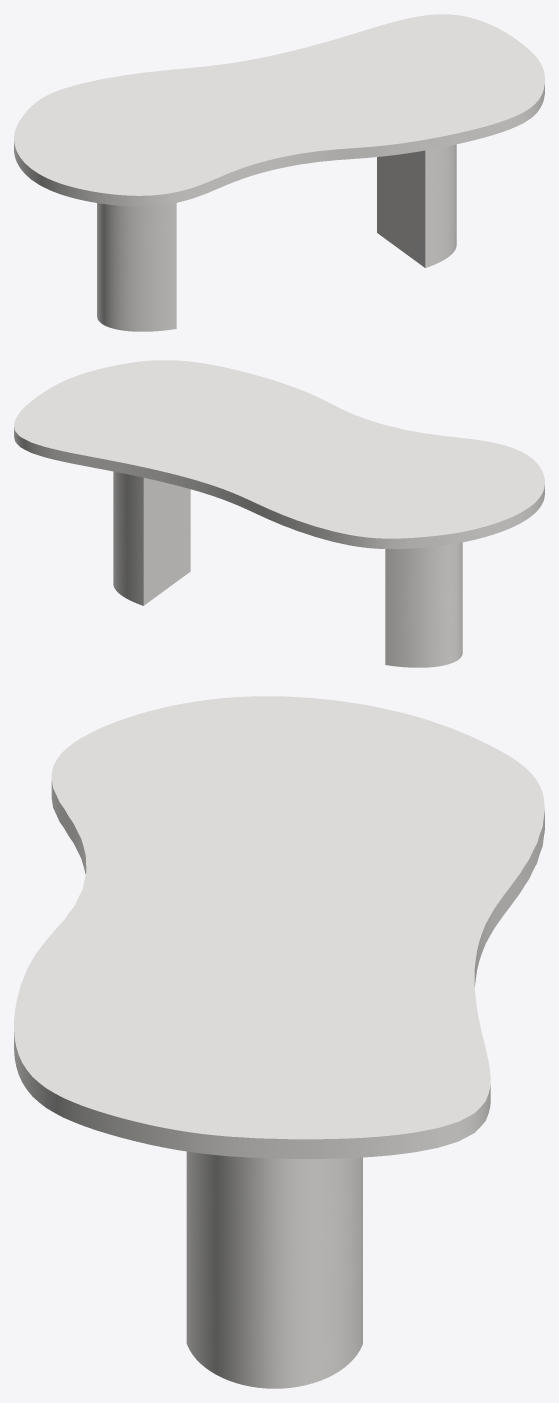
Rendered from purewhite_wave_standard_hillside.glb.
The picture shows the model from 3 angles, top to bottom: view 1: azimuth 30°, elevation 25°; view 2: azimuth 150°, elevation 25°; view 3: azimuth 270°, elevation 25°; orthographic projection. The views are drawn at different scales.
Visible parts, largest first — view 1: standard_wave, hillside; view 2: standard_wave, hillside; view 3: standard_wave, hillside.
Boxes of the visible parts, x1=… form: standard_wave: x1=14, y1=14, x2=544, y2=206; hillside: x1=97, y1=144, x2=456, y2=331; standard_wave: x1=14, y1=360, x2=544, y2=548; hillside: x1=113, y1=471, x2=462, y2=667; standard_wave: x1=14, y1=696, x2=544, y2=1158; hillside: x1=186, y1=1151, x2=362, y2=1388.
Bounding box in the file's own units: 7.5 × 2.5 × 3.8.
1 material, 1 textured.
